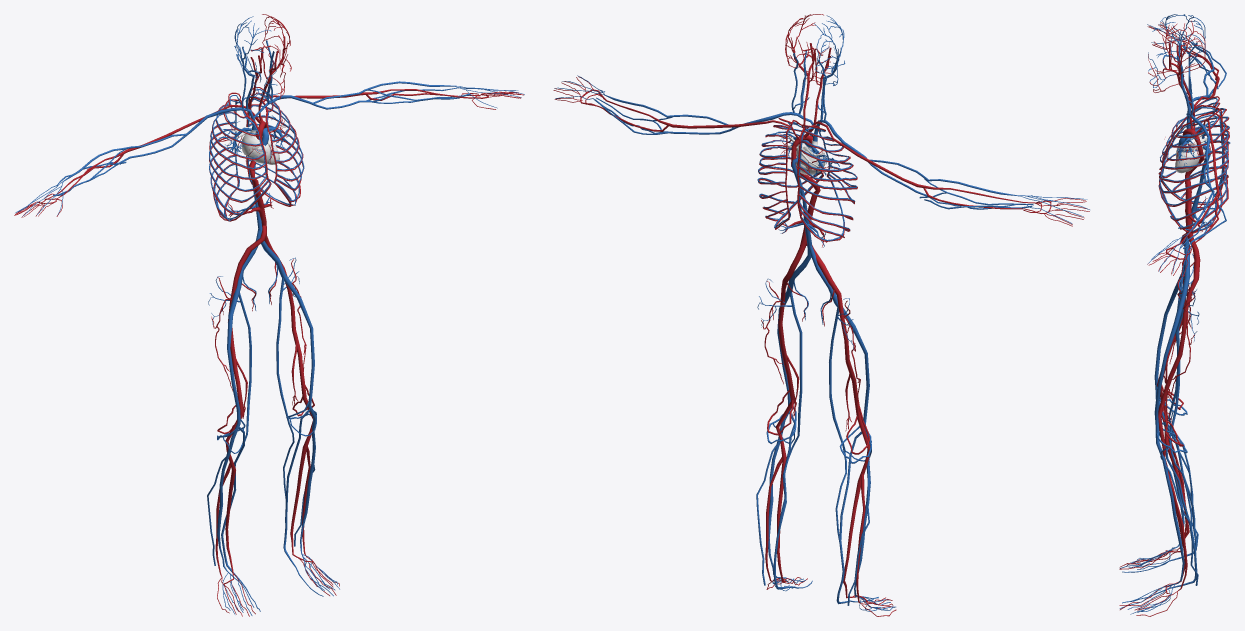
The picture shows the model from 3 angles, left to right: view 1: azimuth 30°, elevation 25°; view 2: azimuth 150°, elevation 25°; view 3: azimuth 270°, elevation 25°; orthographic projection. The views are drawn at different scales.
Visible parts, largest first — view 1: Circulatory_Veins, Circulatory_Arteries, Circulatory_Heart; view 2: Circulatory_Veins, Circulatory_Arteries; view 3: Circulatory_Veins, Circulatory_Arteries, Circulatory_Heart.
Boxes of the visible parts, x1,y1,x2,y2 form: Circulatory_Veins: (15,16,524,615); Circulatory_Arteries: (14,14,523,616); Circulatory_Heart: (226,125,285,164); Circulatory_Veins: (554,15,1089,611); Circulatory_Arteries: (553,14,1089,616); Circulatory_Veins: (1119,14,1230,614); Circulatory_Arteries: (1119,20,1229,616); Circulatory_Heart: (1175,123,1207,173).
Size of the model in its own units: 170 by 183 by 32.12.
